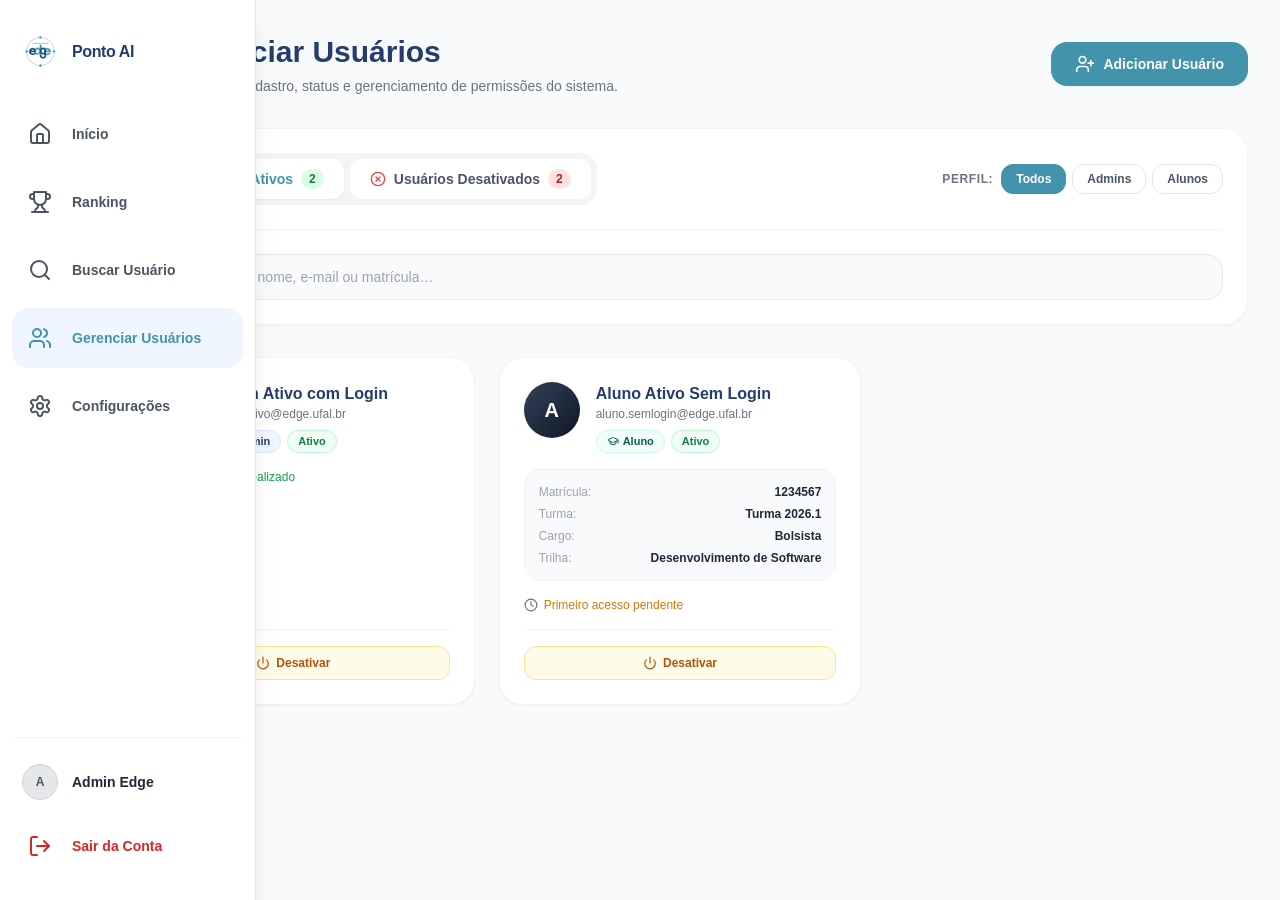
Test case: GerenciarUsuariosPage — Listagem, Modal e Regras de Deleção › abre o modal de adicionar usuário ao clicar no botão "Adicionar Usuário"
The width and height of the screenshot is (1280, 900).
Expected: the heading "Admin Ativo com Login" is shown, 209,385 -> 388,402
Step 1. Click the button "Adicionar Usuário" → (1150, 64), box 1051,42 -> 1248,86
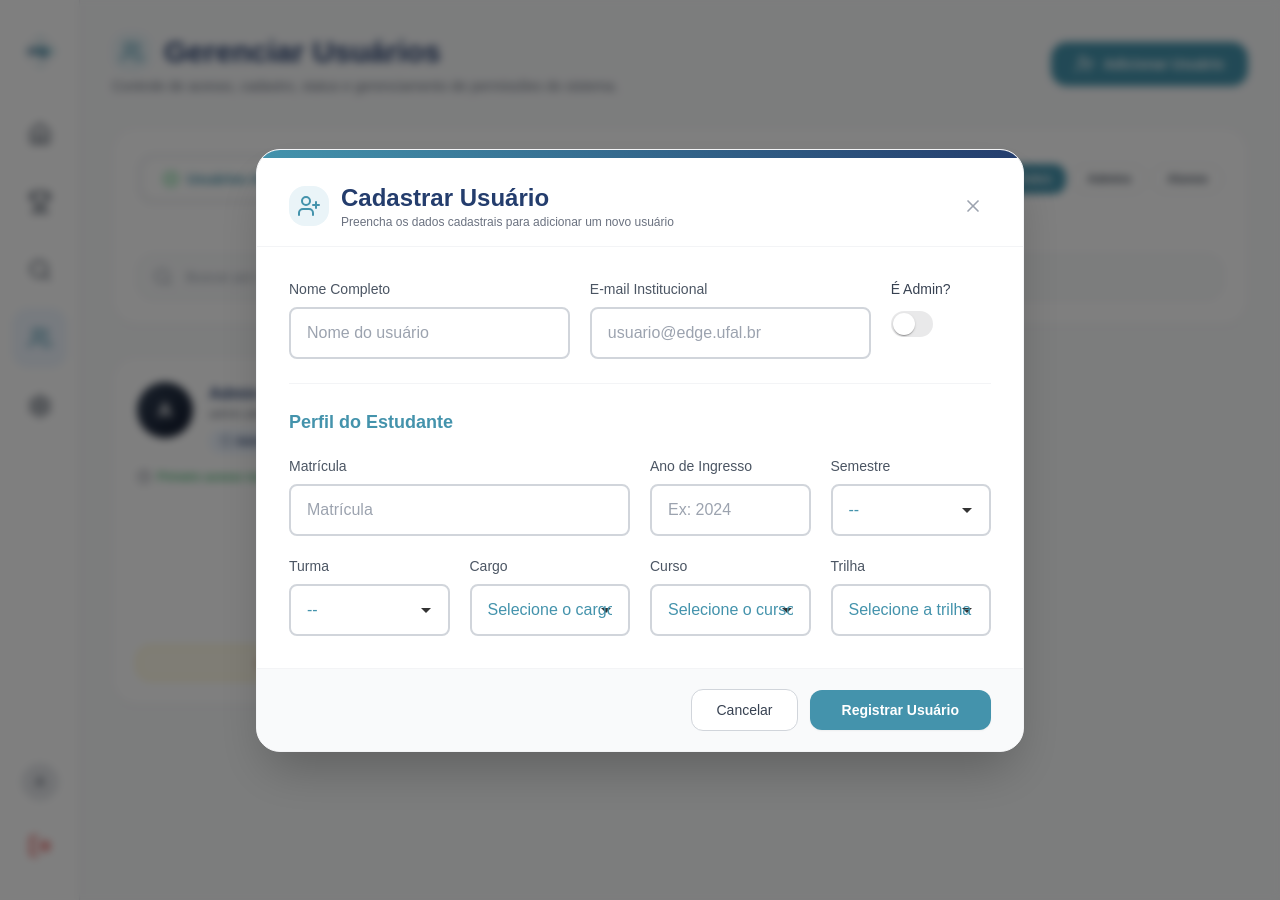
Expected: the field with placeholder "Nome do usuário" is shown, 289,306 -> 570,358
Expected: the field with placeholder "usuario@edge.ufal.br" is shown, 590,306 -> 871,358
